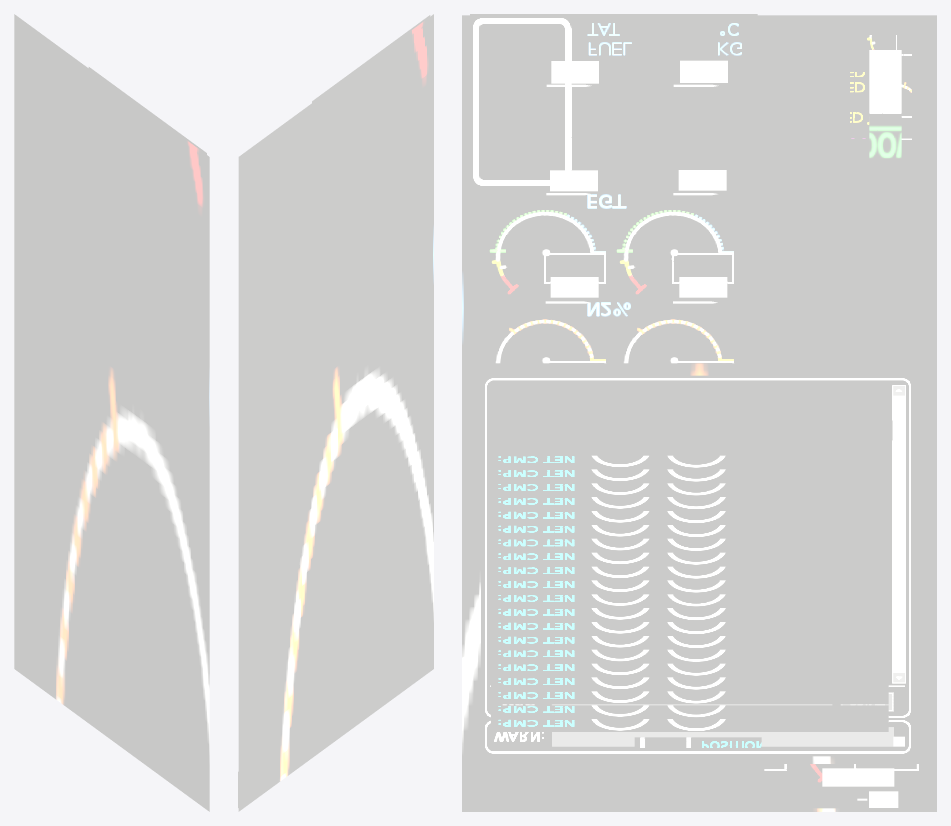
Rendered from eicas.glb.
3 views of the same model, side by side, from view 1: azimuth 30°, elevation 25°; view 2: azimuth 150°, elevation 25°; view 3: azimuth 270°, elevation 25° (orthographic). The views are drawn at different scales.
Parts seen in each view (by area): view 1: box; view 2: box; view 3: box (×4), new.18, new.17, new.16, new.15, new.14, new.10, new.9, new.8, new.7, new.6, new.2 (+13 smaller).
Boxes of the visible parts, box(x1,y1,x2,y2) form: box: box(14, 14, 209, 811); box: box(238, 14, 433, 811); box (×4): box(462, 14, 936, 811); new.18: box(491, 705, 888, 718); new.17: box(491, 691, 888, 704); new.16: box(491, 677, 888, 690); new.15: box(491, 663, 888, 676); new.14: box(491, 649, 888, 662); new.10: box(491, 594, 888, 607); new.9: box(491, 580, 888, 593); new.8: box(491, 566, 888, 579); new.7: box(491, 552, 888, 565); new.6: box(491, 538, 888, 551); new.2: box(491, 483, 888, 496).
Bounding box in the file's own units: 0.00168 × 0.2878 × 0.1552.
Materials: 7 (5 with a texture image).
